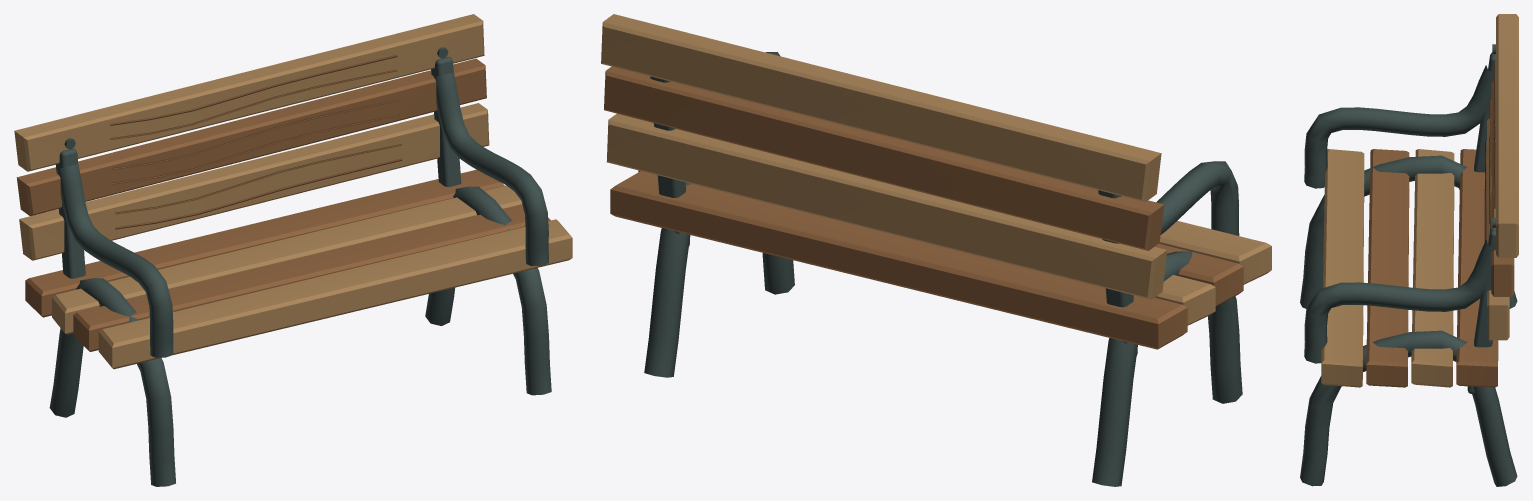
The model's file is banco.glb.
The picture shows the model from 3 angles, left to right: view 1: azimuth 30°, elevation 25°; view 2: azimuth 150°, elevation 25°; view 3: azimuth 270°, elevation 25°; orthographic projection. The views are drawn at different scales.
Visible parts, largest first — view 1: banco; view 2: banco; view 3: banco.
Boxes of the visible parts, x1,y1,x2,y2 form: banco: [14, 14, 572, 486]; banco: [601, 14, 1271, 486]; banco: [1300, 14, 1518, 486].
Size of the model in its own units: 1.56 by 0.9396 by 0.6662.
